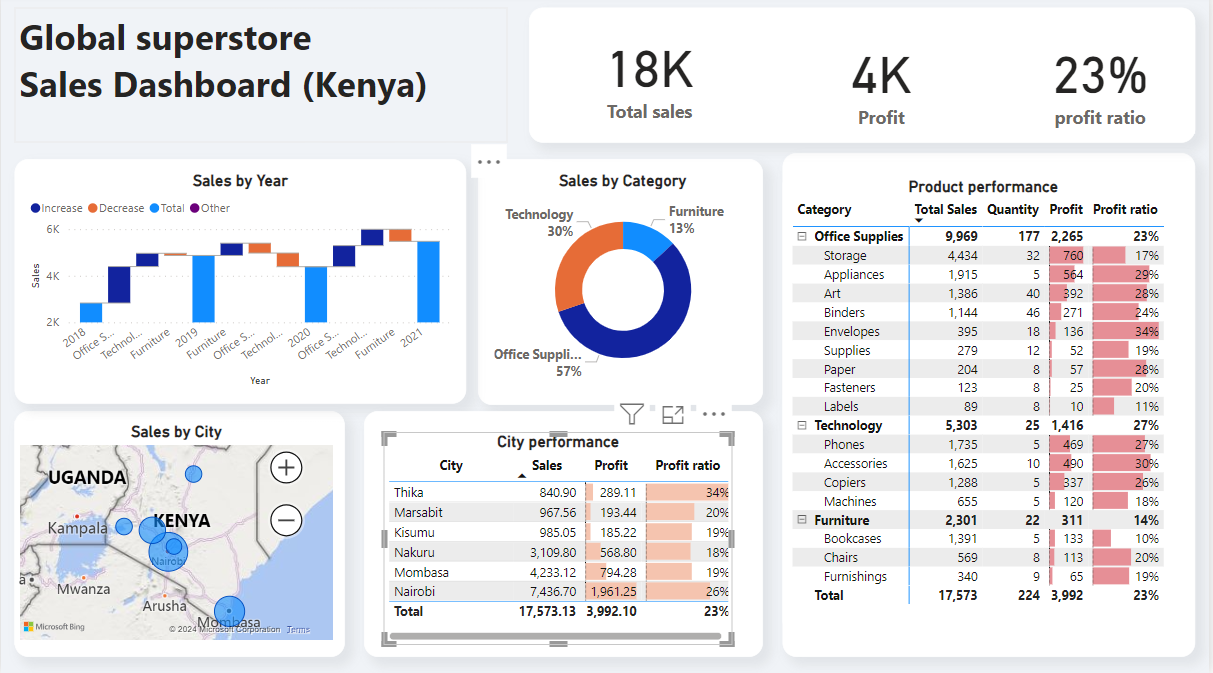

The dashboard page shown, as its layout file describes it:
{"tool":"powerbi","page":{"name":"Sales","canvas":[1280,720],"ordinal":0},"visuals":[{"type":"shape","box":[807.4,168.5,457.7,534],"z":1000},{"type":"shape","box":[14.3,441.9,349.7,260.7],"z":2000},{"type":"shape","box":[371.9,441.9,422.8,260.7],"z":3000},{"type":"shape","box":[559.5,14.3,705.7,143],"z":5000},{"type":"shape","box":[14.3,168.5,780.4,267],"z":6000},{"type":"card","fields":{"Values":["Sum(global_superstore.Profit)"]},"box":[828.1,33.4,208.2,114.4],"z":7000},{"type":"card","fields":{"Values":["Sum(global_superstore.Sales)"]},"box":[578.5,33.4,216.2,103.3],"z":8000},{"type":"card","fields":{"Values":["global_superstore.profit ratio"]},"box":[1063.3,33.4,201.9,114.4],"z":9000},{"type":"areaChart","title":"Sales by Year","fields":{"Category":["global_superstore.Order_Date.Variation.Date Hierarchy.Year"],"Y":["Sum(global_superstore.Sales)"]},"box":[14.3,187.5,769.3,235.2],"z":10000},{"type":"donutChart","title":"Sales by Category","fields":{"Y":["Sum(global_superstore.Sales)"],"Series":["global_superstore.Category"]},"box":[394.2,453,389.4,236.8],"z":11000},{"type":"pivotTable","title":"Product performance","fields":{"Rows":["global_superstore.Category","global_superstore.Sub_Category"],"Values":["Sum(global_superstore.Sales)","Sum(global_superstore.Quantity)","Sum(global_superstore.Profit)","global_superstore.profit ratio"]},"box":[828.1,187.5,424.4,491.1],"z":12000},{"type":"map","fields":{"Category":["global_superstore.City"],"Size":["Sum(global_superstore.Sales)"]},"box":[14.3,453,343.3,236.8],"z":13000},{"type":"textbox","box":[14.3,14.3,522.9,143],"z":14001}]}

Visuals, with their boxes in screenshot pixels (x1, y1, x2, y2), scaled from the page's 1280x720 canvas onto the 1213x673 screenshot:
shape: <region>765, 158, 1199, 657</region>
shape: <region>14, 413, 345, 657</region>
shape: <region>352, 413, 753, 657</region>
shape: <region>530, 13, 1199, 147</region>
shape: <region>14, 158, 753, 407</region>
card - Sum(global_superstore.Profit): <region>785, 31, 982, 138</region>
card - Sum(global_superstore.Sales): <region>548, 31, 753, 128</region>
card - global_superstore.profit ratio: <region>1008, 31, 1199, 138</region>
"Sales by Year" areaChart: <region>14, 175, 743, 395</region>
"Sales by Category" donutChart: <region>374, 423, 743, 645</region>
"Product performance" pivotTable: <region>785, 175, 1187, 634</region>
map - global_superstore.City x Sum(global_superstore.Sales): <region>14, 423, 339, 645</region>
textbox: <region>14, 13, 509, 147</region>
